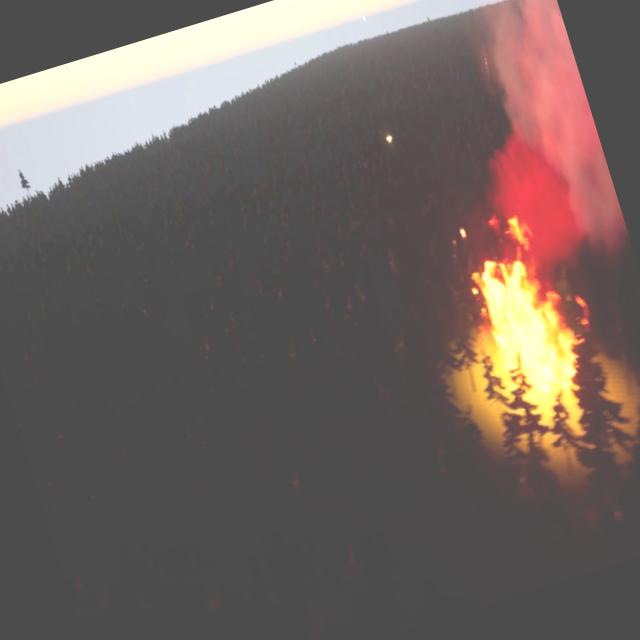fire: (466, 239, 590, 412)
smoke: (438, 0, 629, 272)
